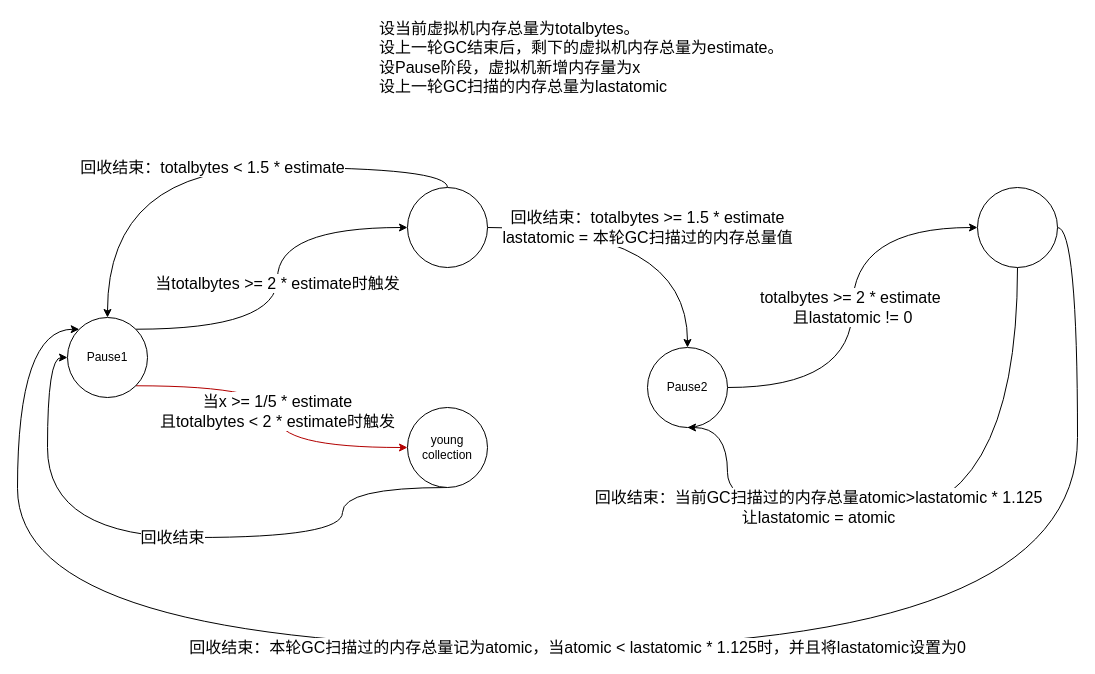
Some shapes in this 1095 by 674 pixel diagram are drawn without their labels. The shapes that lost their labels are listed below. From the top down, each one's centre as x and y in pixels, then its label:
At point (447, 227): "fullgen".
At point (1017, 227): "stepgenfull".
